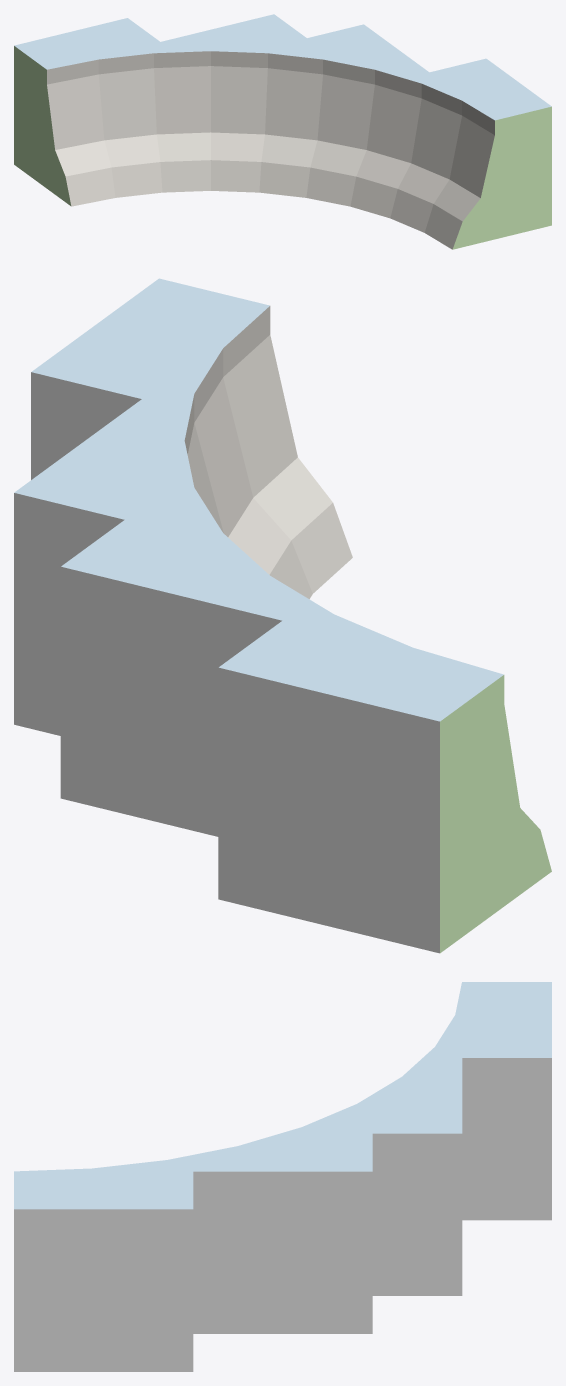
The model's file is Wall_Curve_Inner_6x6_Base.fbx.
3 renders of one model, top to bottom at view 1: azimuth 30°, elevation 25°; view 2: azimuth 150°, elevation 25°; view 3: azimuth 270°, elevation 25°, orthographic. The views are drawn at different scales.
Parts seen in each view (by area): view 1: Wall_Curve_Inner_6x6_Base; view 2: Wall_Curve_Inner_6x6_Base; view 3: Wall_Curve_Inner_6x6_Base.
Boxes of the visible parts, <box> form: Wall_Curve_Inner_6x6_Base: <box>14,14,551,249</box>; Wall_Curve_Inner_6x6_Base: <box>14,278,551,953</box>; Wall_Curve_Inner_6x6_Base: <box>14,982,551,1371</box>.
Bounding box in the file's own units: 600 × 200 × 600.
